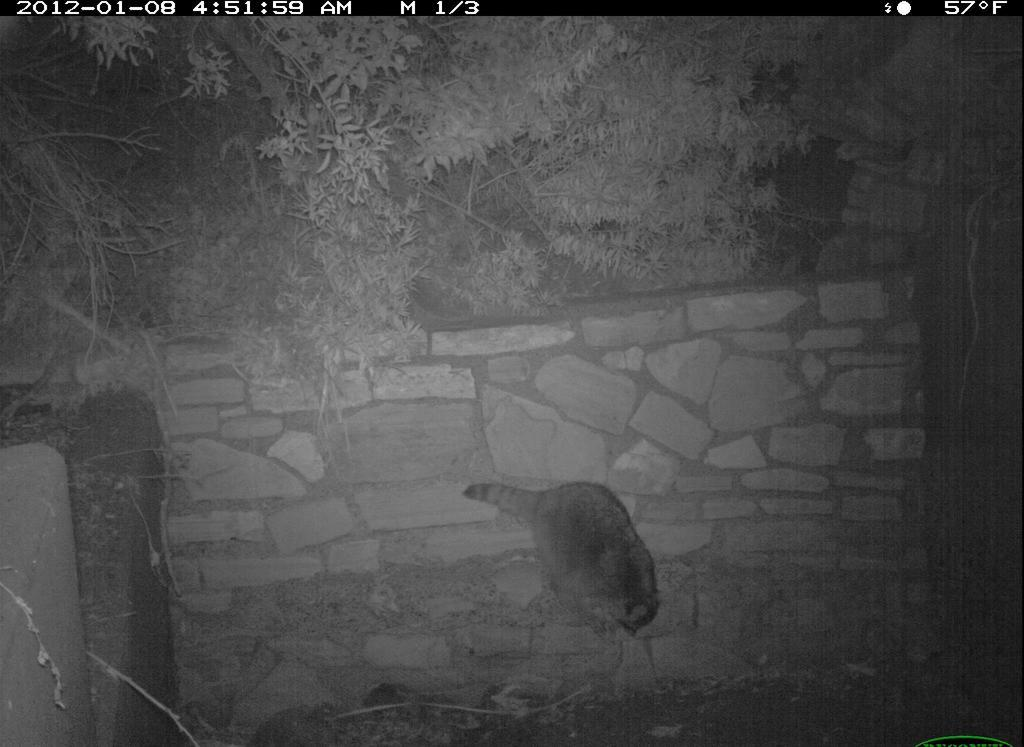raccoon: (457, 454, 666, 657)
